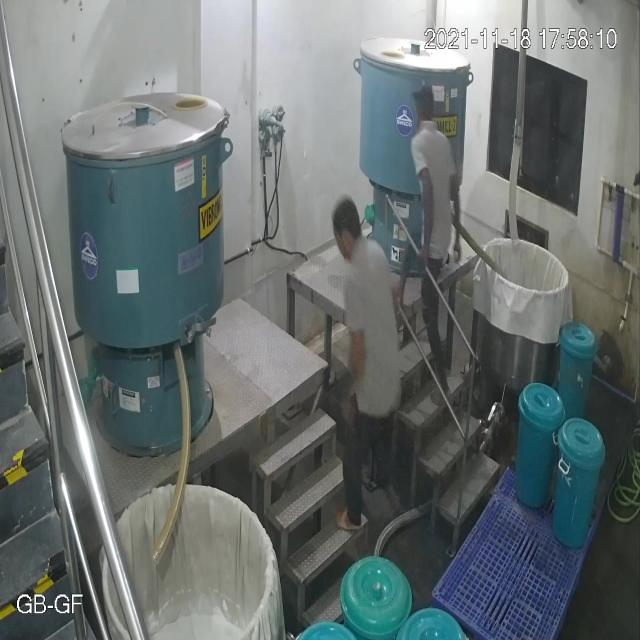no-shoes: (337, 498, 362, 536)
